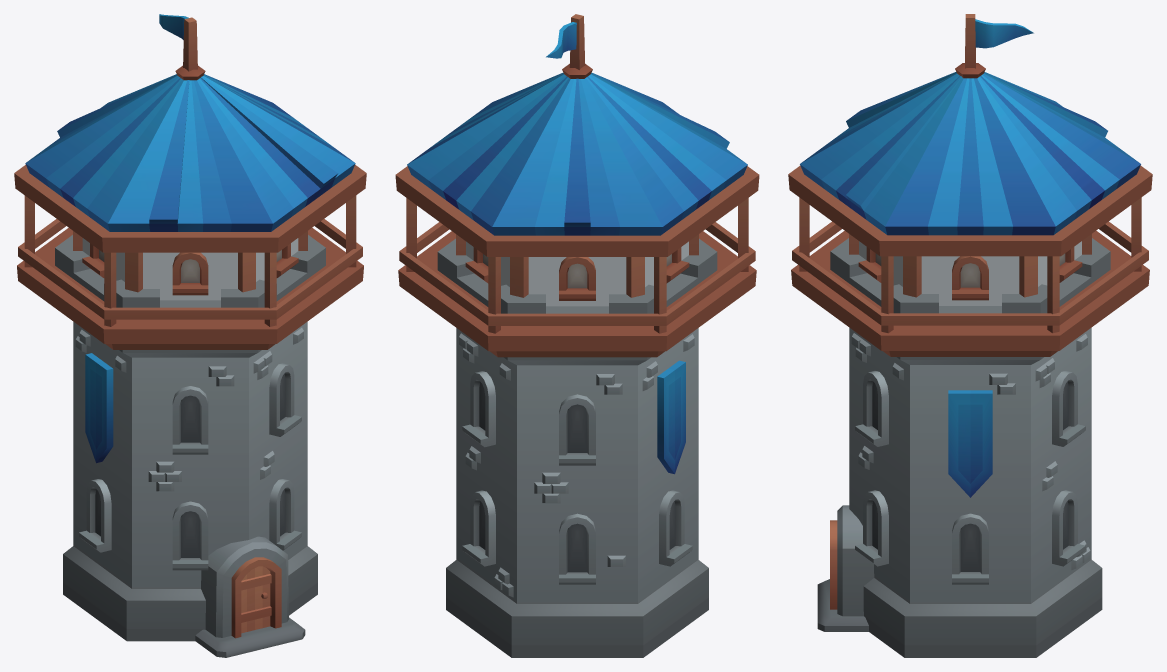
Rendered from building_tower_B_blue.gltf.
The picture shows the model from 3 angles, left to right: view 1: azimuth 30°, elevation 25°; view 2: azimuth 150°, elevation 25°; view 3: azimuth 270°, elevation 25°; orthographic projection. The views are drawn at different scales.
Parts seen in each view (by area): view 1: building_tower_B_blue, building_tower_B_top_blue; view 2: building_tower_B_blue, building_tower_B_top_blue; view 3: building_tower_B_blue, building_tower_B_top_blue.
Part boxes in pixels (x1,y1,x2,y2): building_tower_B_blue: (55,235,325,657); building_tower_B_top_blue: (14,14,366,349); building_tower_B_blue: (437,238,717,657); building_tower_B_top_blue: (395,14,759,357); building_tower_B_blue: (817,238,1110,657); building_tower_B_top_blue: (788,14,1152,356).
Size of the model in its own units: 1.2 by 2.49 by 1.38.
Materials: 1 (1 with a texture image).
